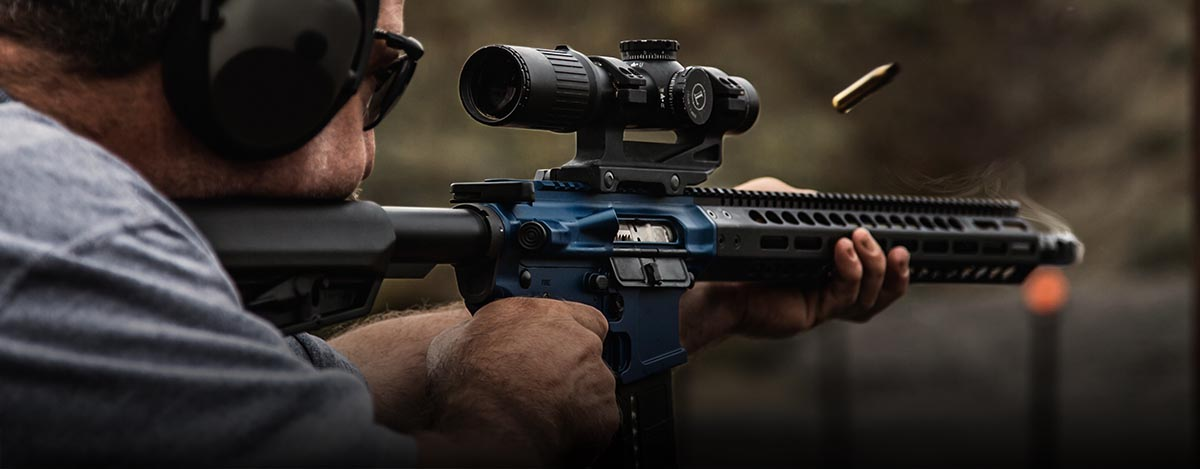Gun: (455, 45, 1073, 271)
